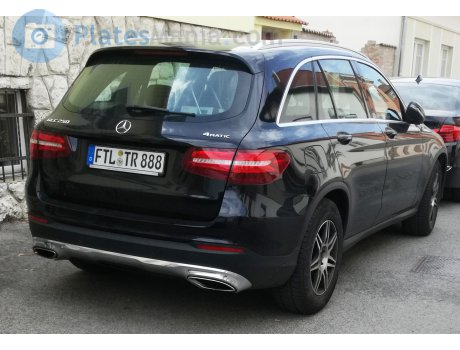License Plates: (90, 147, 159, 172)
